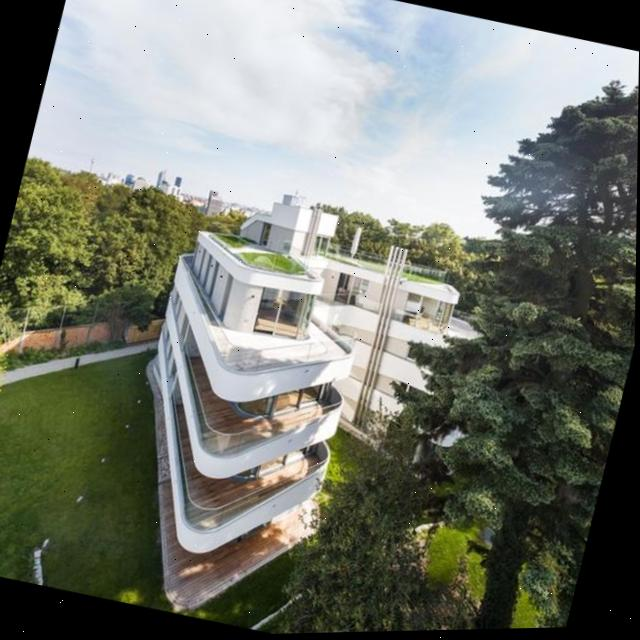building: (97, 170, 503, 638)
